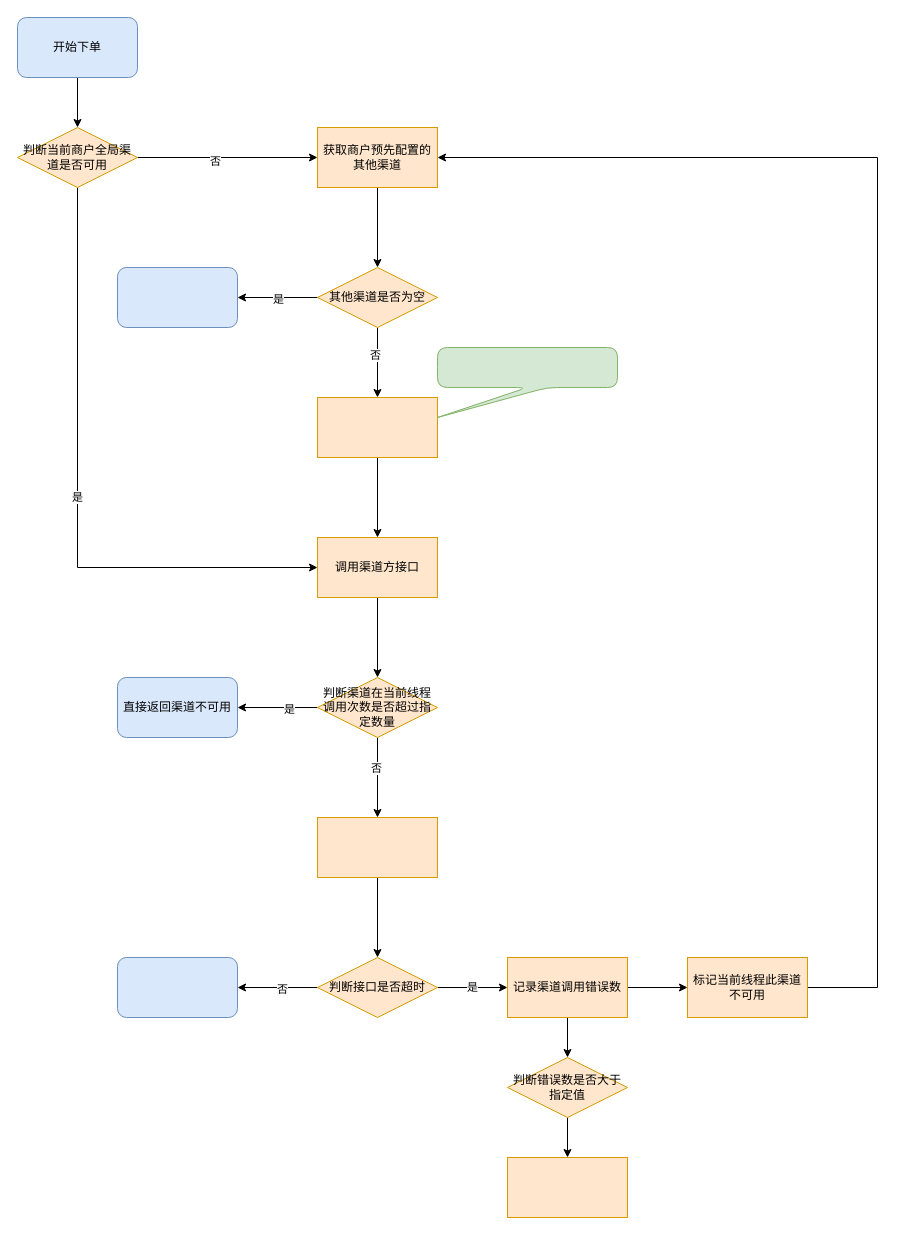
The diagram is 903 pixels wide and 1235 high, and some of its shapes have lost their labels. Each missing label, with the box of its shape:
可用渠道：当前线程渠道可用: (436, 346, 618, 418)
标记当前商户应用全局渠道不可用: (506, 1156, 628, 1218)
获取优先级较高的可用渠道: (316, 396, 438, 458)
调用三方接口: (316, 816, 438, 878)
返回渠道不可用: (116, 266, 238, 328)
返回调起支付返回参数: (116, 956, 238, 1018)
